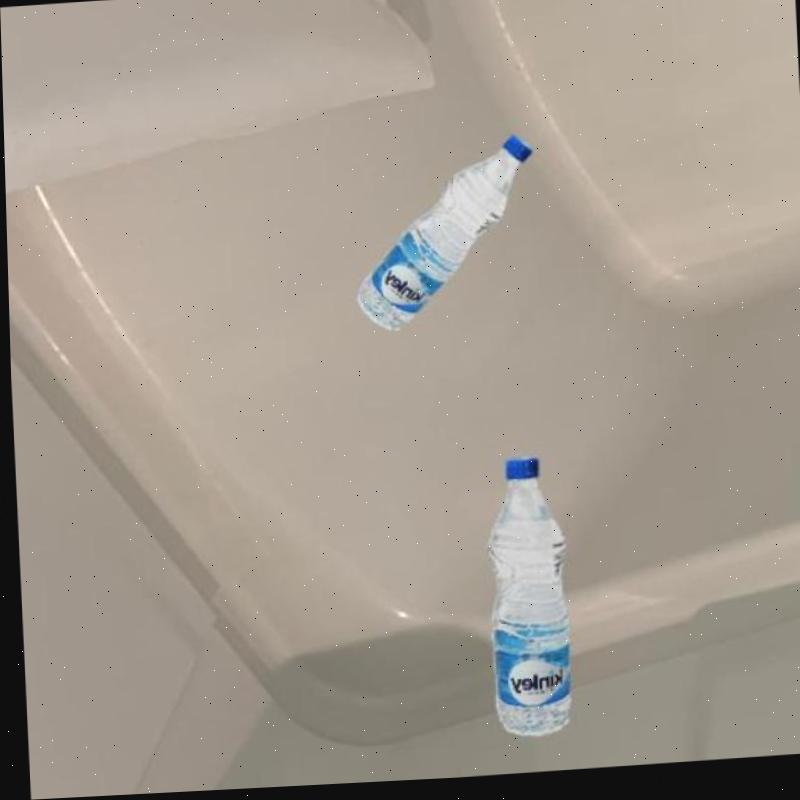botella: (347, 139, 536, 336), (479, 459, 572, 744)
